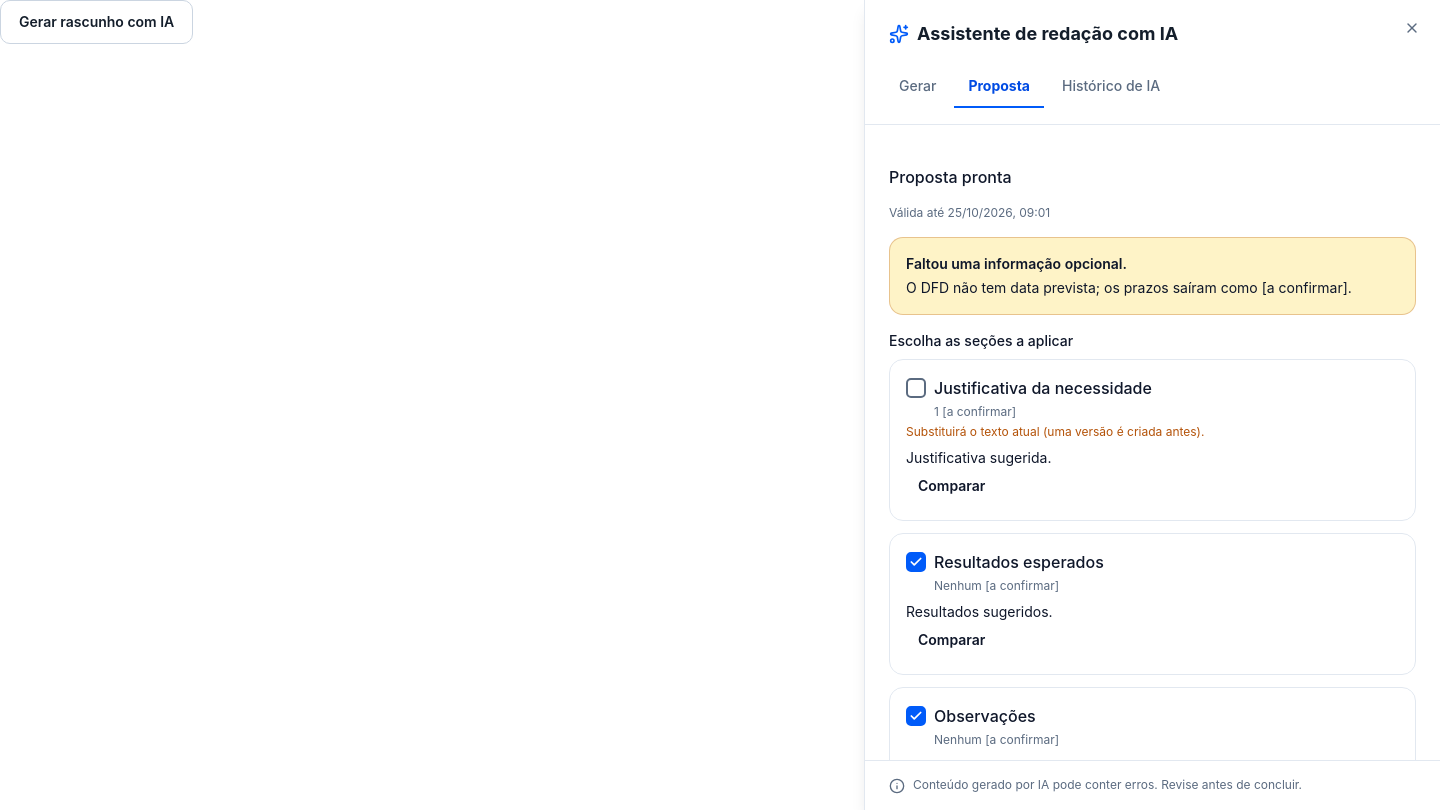
it: SCR-117 — aplicar a proposta do DFD (US-117) › "Comparar" mostra Atual × Sugerido com rótulos
The width and height of the screenshot is (1440, 810).
Expected: the element "Escolha as seções a aplicar" is shown, [889,331,1416,760]
Click the button "Comparar" below "Justificativa sugerida.".
click(952, 486)  # box [906,468,997,504]
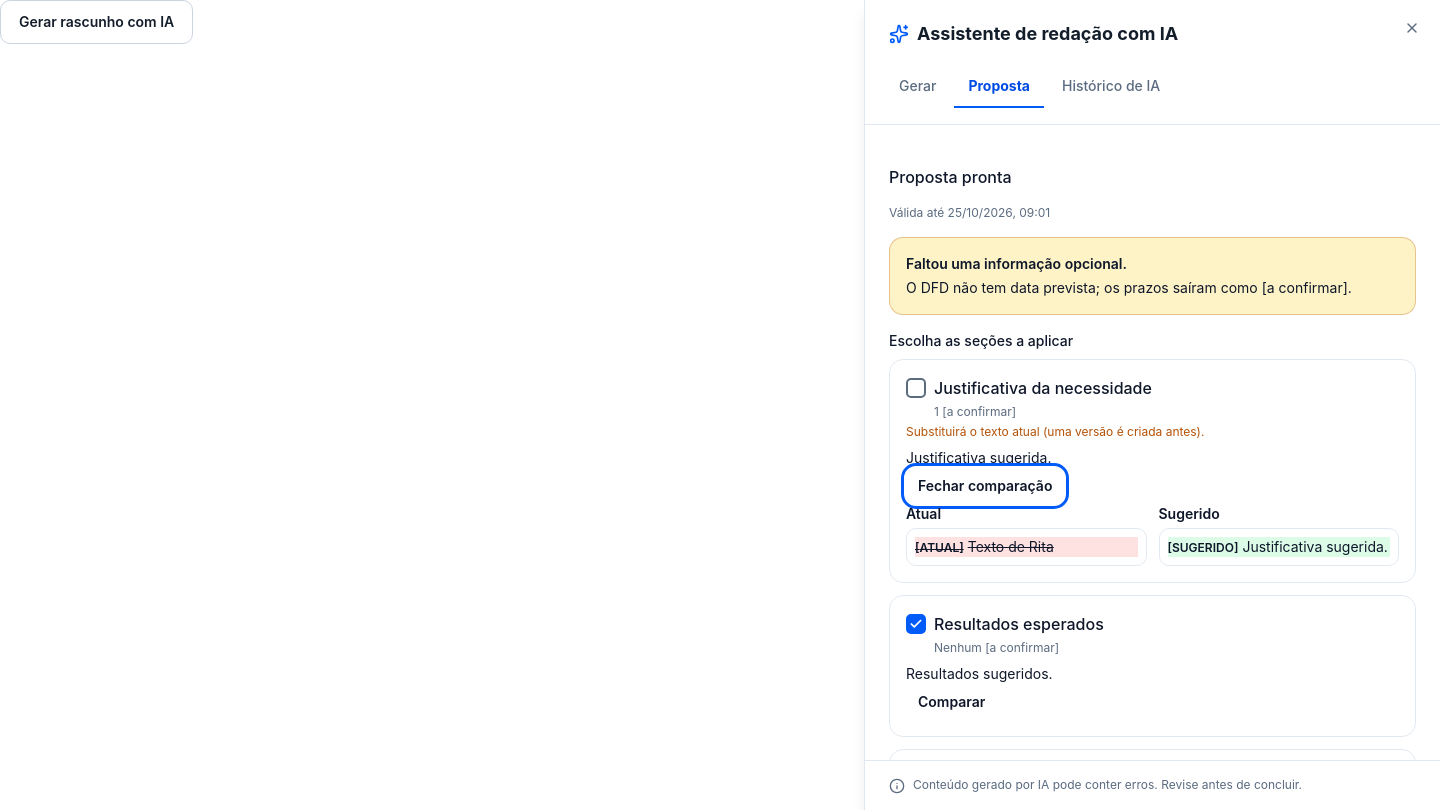
Expected: the element "Atual" is shown, [906,504,1146,566]
Expected: the element "Sugerido" is shown, [1158,504,1399,566]
Expected: the text "Texto de Rita" is shown, [968,538,1054,555]
